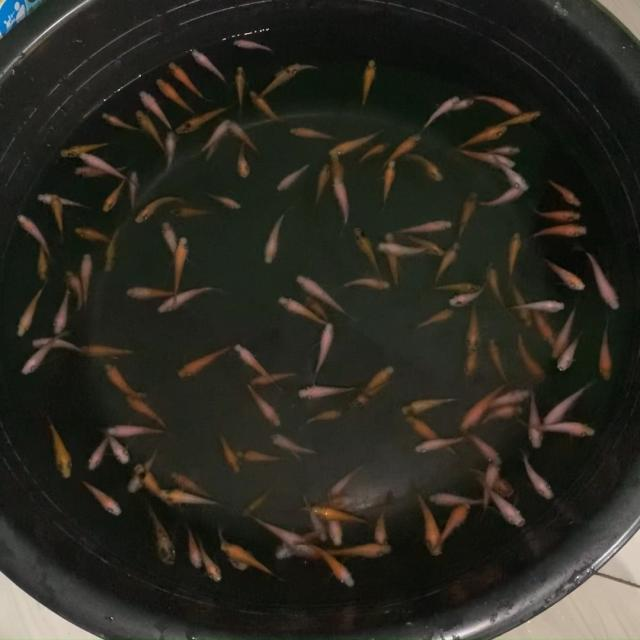nila: (234, 340, 292, 394), (536, 382, 595, 432), (293, 272, 357, 318), (585, 253, 624, 314), (157, 280, 216, 318), (173, 340, 229, 380), (102, 354, 150, 400), (128, 461, 174, 508), (410, 419, 460, 461), (122, 389, 172, 431), (177, 100, 232, 138), (548, 302, 584, 360), (222, 542, 284, 575), (15, 212, 56, 260), (307, 323, 338, 386), (520, 451, 558, 502), (254, 516, 311, 550), (484, 488, 528, 532), (461, 382, 501, 430), (126, 444, 162, 497), (350, 222, 384, 278), (165, 58, 208, 102), (431, 502, 473, 547), (242, 384, 282, 431), (270, 524, 318, 562), (46, 417, 74, 482), (79, 148, 132, 182), (14, 284, 46, 340), (396, 147, 443, 185), (414, 488, 441, 554), (514, 334, 551, 382), (256, 61, 302, 99), (262, 428, 320, 458), (542, 258, 590, 294), (274, 293, 328, 325), (517, 308, 560, 348), (314, 546, 354, 589), (451, 123, 507, 153), (343, 373, 391, 408), (168, 469, 220, 501), (380, 131, 427, 166), (138, 89, 176, 132), (214, 524, 248, 572), (150, 509, 178, 567), (78, 480, 124, 515), (240, 362, 300, 388), (190, 42, 228, 83), (470, 468, 518, 500), (262, 206, 288, 264), (476, 182, 526, 212), (298, 494, 328, 544), (533, 417, 598, 440), (23, 336, 58, 378), (132, 108, 166, 150), (102, 420, 173, 440), (333, 272, 392, 296), (309, 504, 373, 526), (320, 542, 394, 561), (328, 459, 366, 496), (327, 176, 354, 228), (422, 92, 461, 128), (398, 394, 452, 420), (544, 176, 584, 211), (134, 195, 184, 223), (54, 138, 114, 161), (50, 280, 73, 340), (170, 236, 190, 304), (245, 92, 286, 125), (86, 426, 116, 471), (198, 538, 228, 583), (412, 435, 470, 458), (495, 154, 530, 192), (491, 106, 542, 132), (596, 317, 616, 383), (332, 127, 379, 155), (160, 220, 187, 268), (242, 479, 277, 516), (154, 77, 192, 111), (468, 91, 524, 114), (432, 240, 460, 286), (524, 396, 548, 449), (430, 488, 490, 509), (78, 339, 135, 361), (216, 428, 241, 478), (30, 333, 84, 356), (528, 220, 590, 240), (121, 282, 180, 303), (70, 158, 128, 179), (274, 160, 314, 190), (157, 488, 223, 506), (36, 191, 92, 212), (490, 338, 516, 383), (376, 157, 398, 210), (458, 143, 508, 166), (102, 223, 124, 275), (354, 366, 392, 396), (397, 216, 453, 236), (295, 494, 365, 510), (453, 280, 486, 313), (510, 285, 534, 330), (370, 498, 391, 549), (104, 427, 132, 465), (61, 266, 85, 310), (554, 339, 584, 374), (383, 232, 402, 287), (478, 458, 498, 510), (200, 120, 230, 154), (467, 434, 501, 464), (457, 192, 479, 238), (200, 120, 224, 162), (102, 110, 144, 134), (299, 292, 330, 324), (483, 384, 532, 404), (74, 224, 118, 246), (236, 442, 280, 464), (463, 306, 482, 356), (481, 408, 524, 430), (359, 58, 377, 110), (101, 176, 127, 212), (166, 204, 218, 222), (297, 384, 358, 399), (80, 250, 95, 310), (33, 232, 51, 282), (49, 192, 67, 241), (414, 308, 454, 330), (225, 35, 272, 53), (232, 138, 252, 180), (326, 147, 350, 182), (324, 505, 344, 547), (485, 268, 508, 304), (231, 122, 262, 148), (356, 140, 392, 162), (183, 526, 201, 570), (514, 302, 570, 316), (126, 168, 142, 215), (381, 242, 442, 254), (313, 160, 330, 203), (290, 126, 342, 140), (461, 344, 483, 377), (232, 62, 245, 116), (476, 142, 526, 156), (162, 130, 180, 168), (409, 238, 447, 256), (508, 227, 521, 278), (210, 190, 240, 212), (436, 96, 480, 110), (534, 208, 585, 220), (306, 408, 346, 423), (272, 61, 320, 72), (430, 281, 482, 291)
